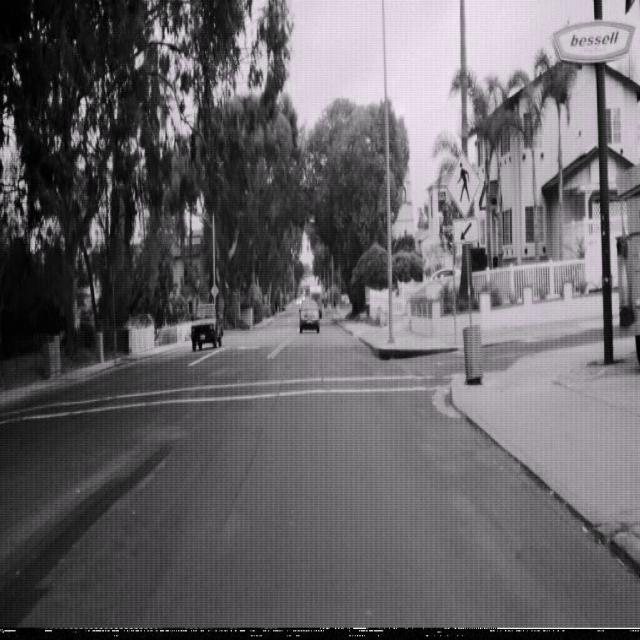pedestrianCrossing: (446, 148, 482, 220)
